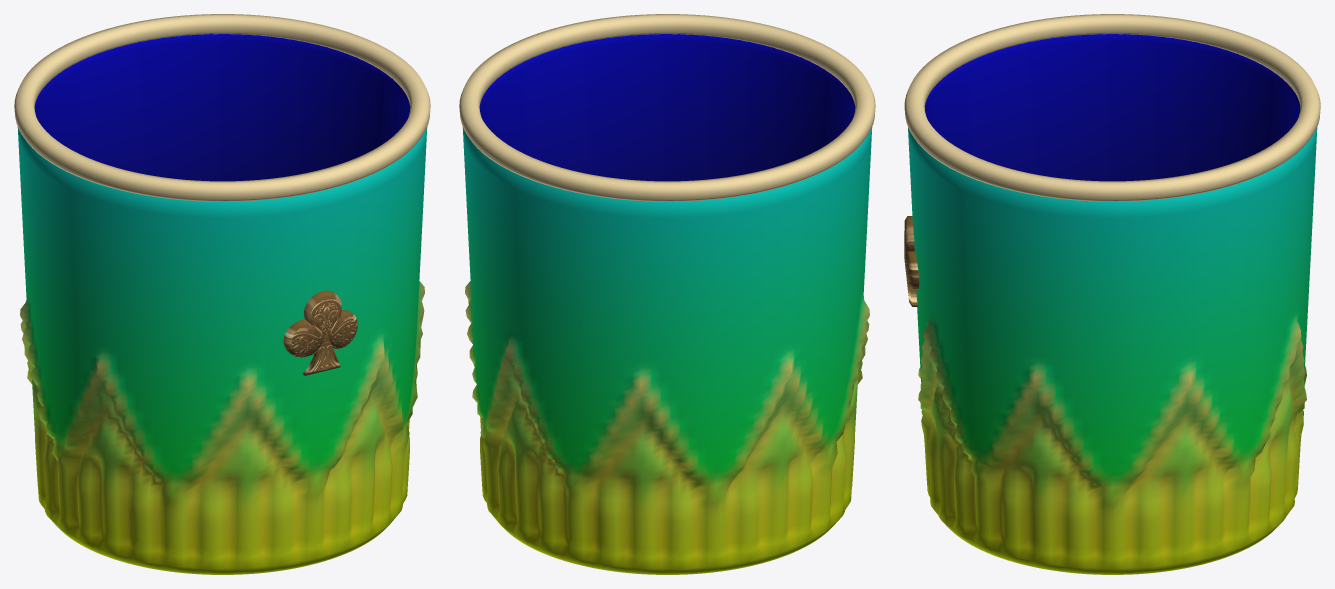
File: whiskey_glass.fbx
3 renders of one model, left to right at view 1: azimuth 30°, elevation 25°; view 2: azimuth 150°, elevation 25°; view 3: azimuth 270°, elevation 25°, orthographic.
Visible parts, largest first — view 1: GlassBody, GoldRim, ClubEmblem; view 2: GlassBody, GoldRim; view 3: GlassBody, GoldRim, ClubEmblem.
Part boxes in pixels (x1=…): GlassBody: x1=17, y1=34, x2=427, y2=574; GoldRim: x1=14, y1=14, x2=430, y2=201; ClubEmblem: x1=283, y1=290, x2=357, y2=375; GlassBody: x1=462, y1=34, x2=872, y2=574; GoldRim: x1=459, y1=14, x2=875, y2=201; GlassBody: x1=908, y1=34, x2=1317, y2=574; GoldRim: x1=904, y1=14, x2=1320, y2=201; ClubEmblem: x1=904, y1=216, x2=919, y2=306.
Size of the model in its own units: 0.0869 by 0.0923 by 0.087.
Materials: 3 (1 with a texture image).
